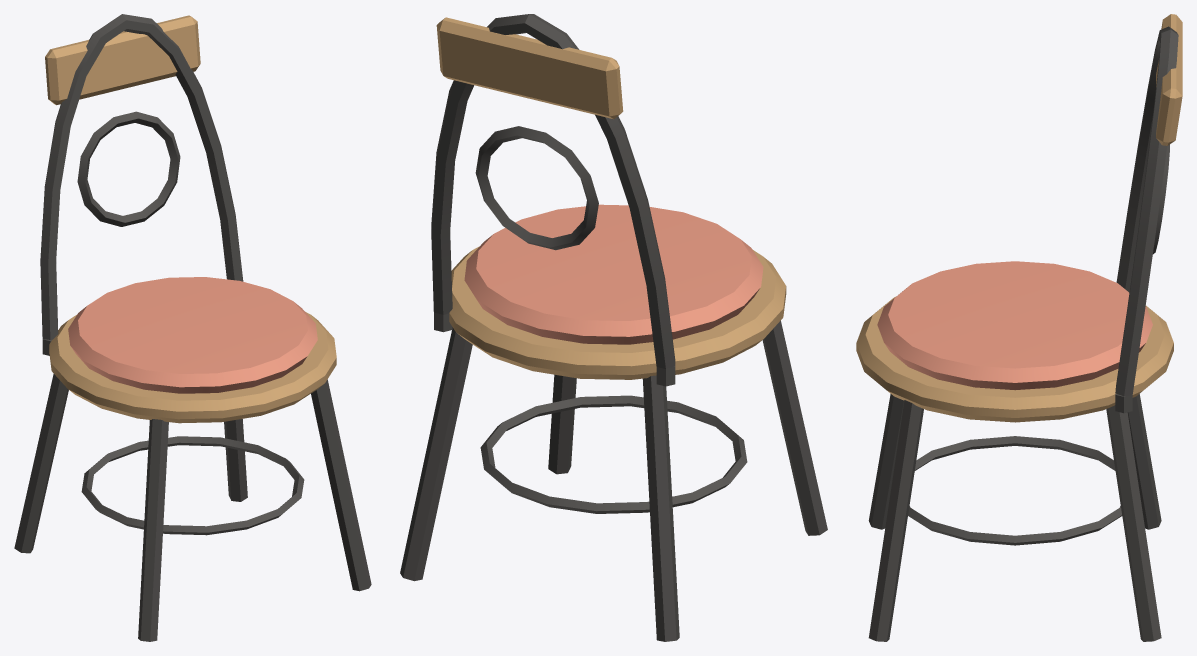
The model's file is furn_cafe_chair.glb.
3 views of the same model, side by side, from view 1: azimuth 30°, elevation 25°; view 2: azimuth 150°, elevation 25°; view 3: azimuth 270°, elevation 25° (orthographic). The views are drawn at different scales.
Visible parts, largest first — view 1: furn_cafe_chair_body; view 2: furn_cafe_chair_body; view 3: furn_cafe_chair_body.
Part boxes in pixels (<box>): furn_cafe_chair_body: <box>14,14,371,641</box>; furn_cafe_chair_body: <box>400,14,827,641</box>; furn_cafe_chair_body: <box>856,14,1182,641</box>.
Size of the model in its own units: 0.35 by 0.673 by 0.3595.
